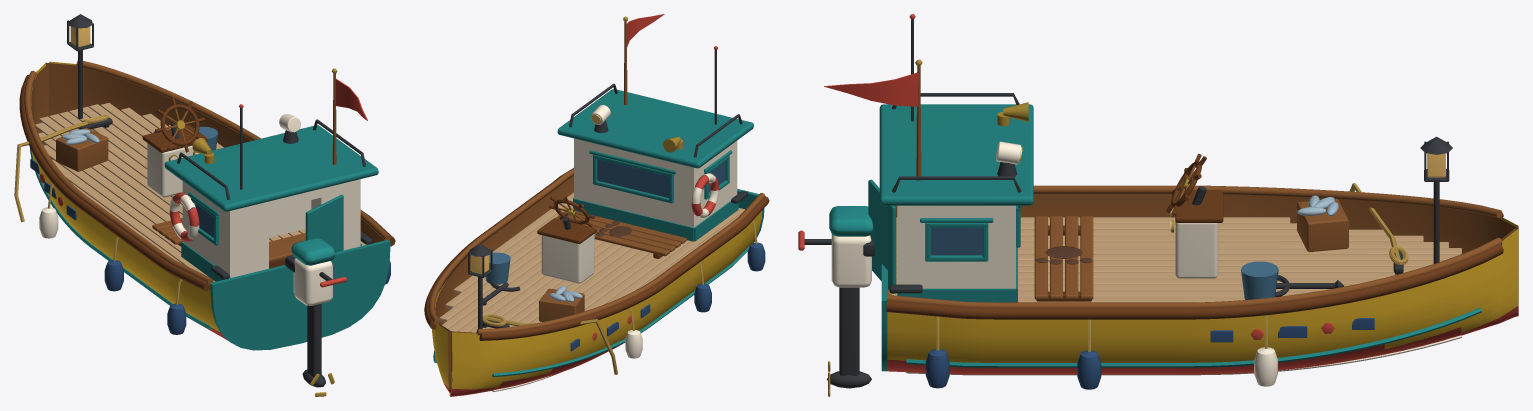
The model's file is wv2_boat.glb.
The picture shows the model from 3 angles, left to right: view 1: azimuth 30°, elevation 25°; view 2: azimuth 150°, elevation 25°; view 3: azimuth 270°, elevation 25°; orthographic projection. The views are drawn at different scales.
Parts seen in each view (by area): view 1: wv2_boat; view 2: wv2_boat, PawMark; view 3: wv2_boat, PawMark.
Part boxes in pixels (x1,y1,x2,y2): wv2_boat: [14, 14, 395, 396]; wv2_boat: [424, 14, 769, 396]; PawMark: [596, 220, 631, 237]; wv2_boat: [798, 14, 1518, 396]; PawMark: [1035, 246, 1092, 264].
Bounding box in the file's own units: 2.59 × 3.19 × 5.71.
